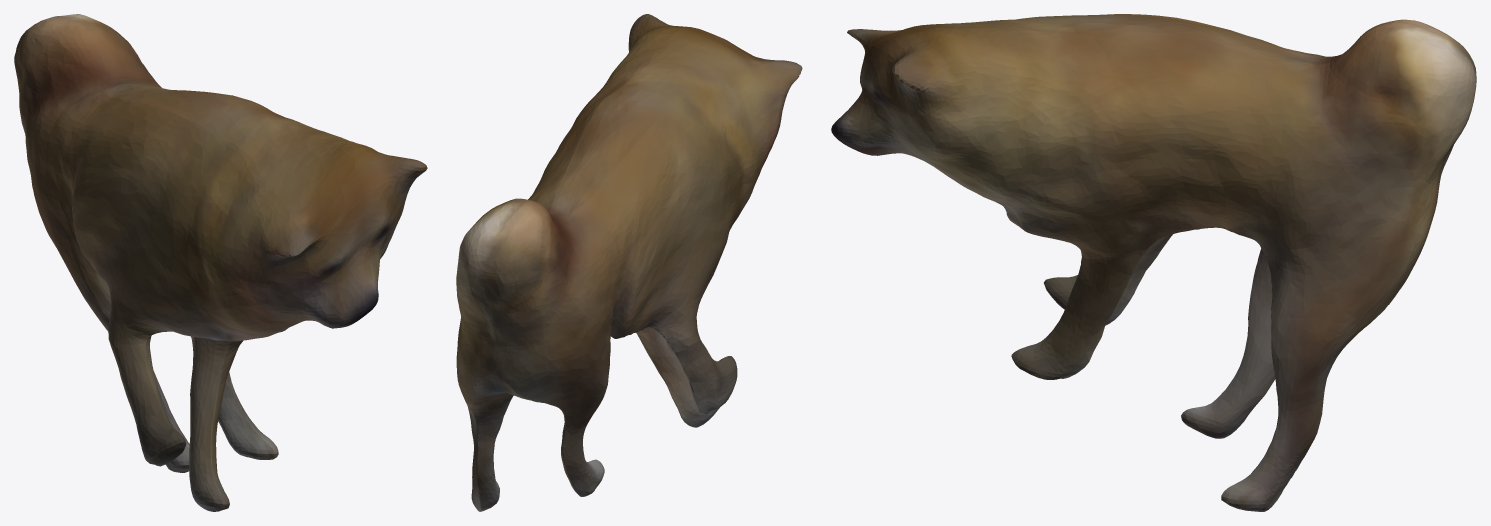
File: shiba-haru-1002-mesh-00016.obj
3 views of the same model, side by side, from view 1: azimuth 30°, elevation 25°; view 2: azimuth 150°, elevation 25°; view 3: azimuth 270°, elevation 25° (orthographic). The views are drawn at different scales.
Bounding box in the file's own units: 0.0366 × 0.0747 × 0.0967.
